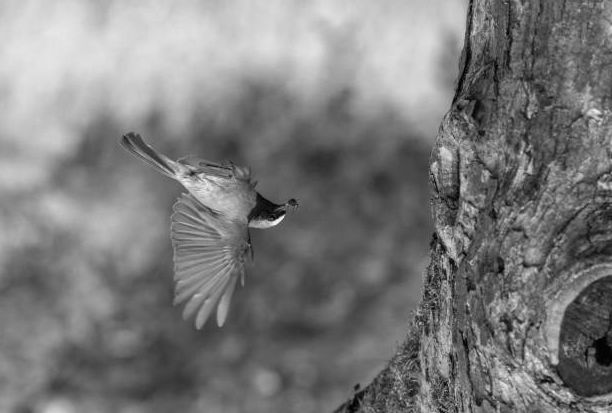Bird: (112, 125, 299, 334)
